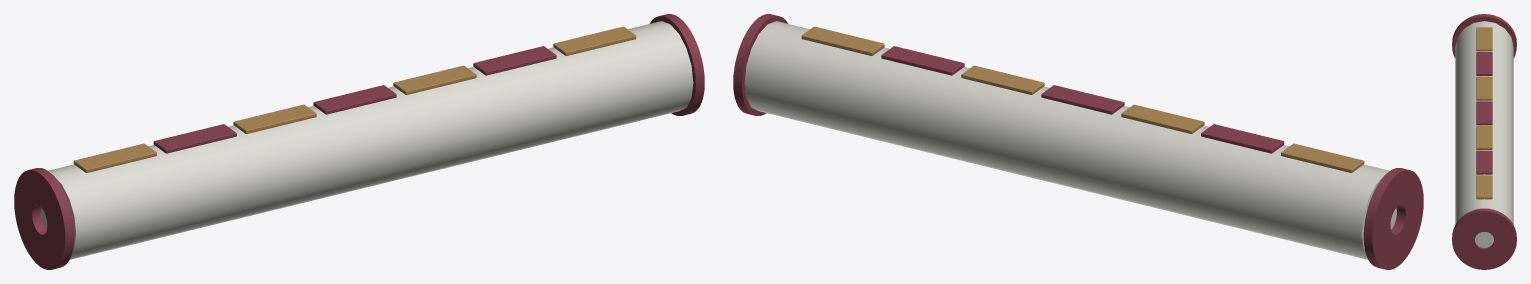
The model's file is abandoned-puppet-theatre-and-prop-vault-rolled-painted-e5b8d47f__31100.glb.
3 views of the same model, side by side, from view 1: azimuth 30°, elevation 25°; view 2: azimuth 150°, elevation 25°; view 3: azimuth 270°, elevation 25° (orthographic). The views are drawn at different scales.
Visible parts, largest first — view 1: rolled-painted-backdrop; view 2: rolled-painted-backdrop; view 3: rolled-painted-backdrop.
Part boxes in pixels (x1,y1,x2,y2): rolled-painted-backdrop: [14, 14, 704, 269]; rolled-painted-backdrop: [733, 14, 1423, 269]; rolled-painted-backdrop: [1452, 14, 1516, 269].
Bounding box in the file's own units: 1.44 × 0.2 × 0.2.
